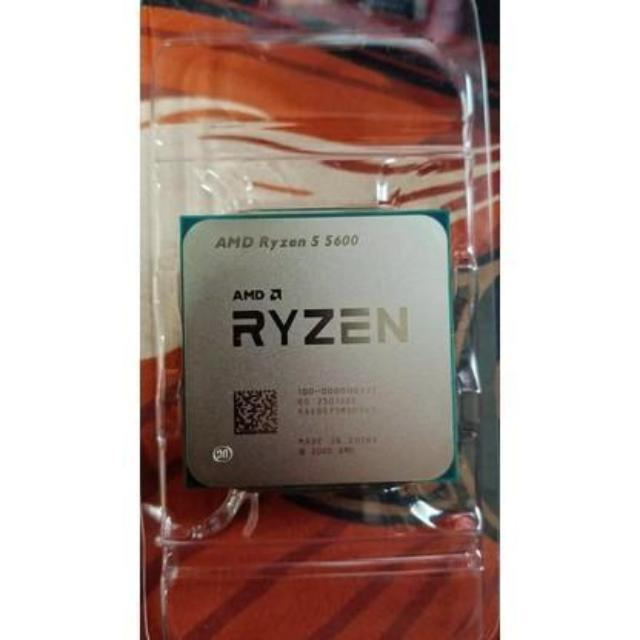CPU: (176, 212, 462, 486)
